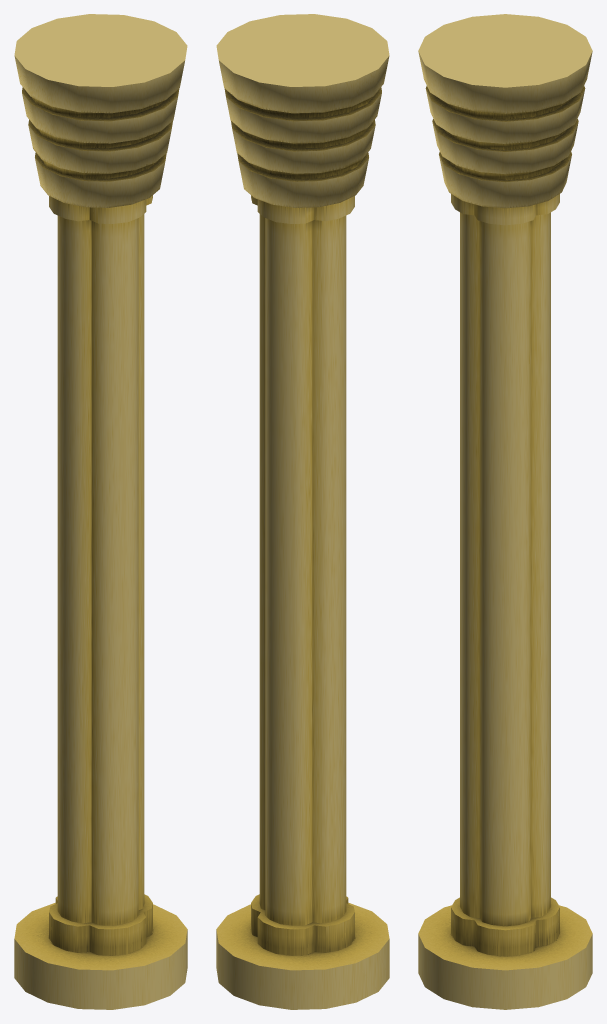
File: cathedral_pillar1.obj
3 renders of one model, left to right at view 1: azimuth 30°, elevation 25°; view 2: azimuth 150°, elevation 25°; view 3: azimuth 270°, elevation 25°, orthographic.
Visible parts, largest first — view 1: Cylinder.001; view 2: Cylinder.001; view 3: Cylinder.001.
Boxes of the visible parts, x1,y1,x2,y2 form: Cylinder.001: (14, 14, 187, 1009); Cylinder.001: (216, 14, 389, 1009); Cylinder.001: (418, 14, 592, 1009).
Bounding box in the file's own units: 0.24 × 1.4 × 0.24.
Materials: 1 (1 with a texture image).
